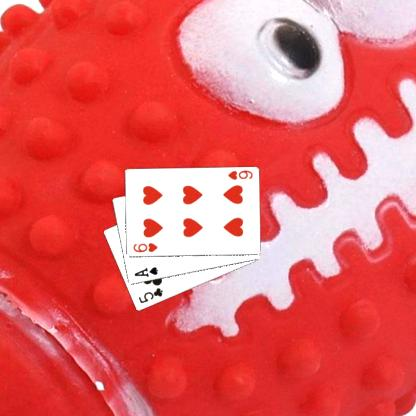5C: (136, 285, 164, 305)
6H: (130, 240, 159, 254), (225, 168, 253, 181)
AS: (132, 264, 160, 279)
